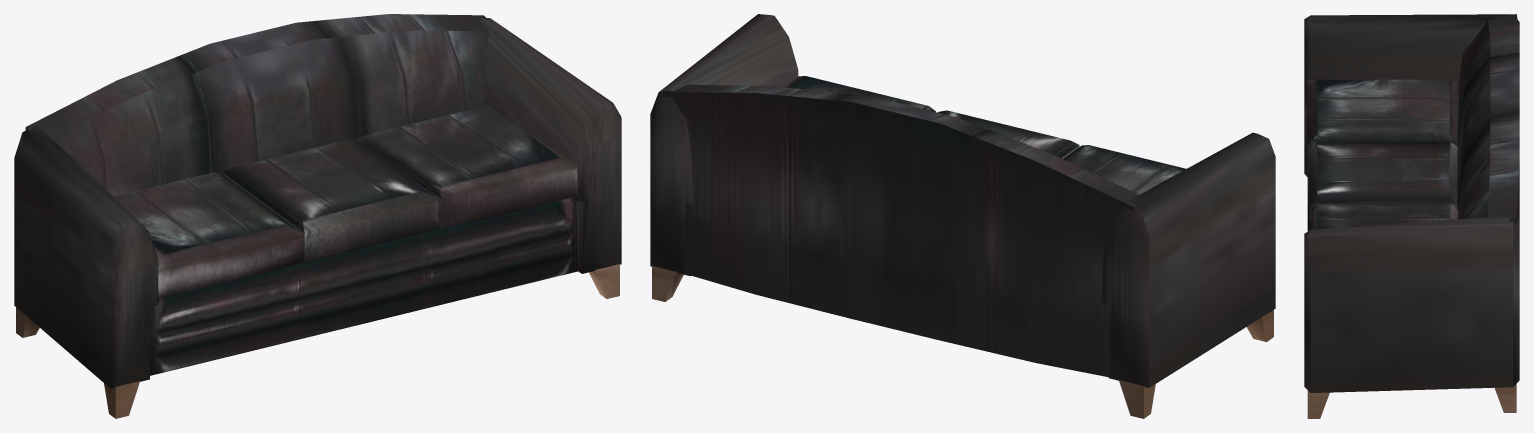
File: couch4.obj
The picture shows the model from 3 angles, left to right: view 1: azimuth 30°, elevation 25°; view 2: azimuth 150°, elevation 25°; view 3: azimuth 270°, elevation 25°; orthographic projection. The views are drawn at different scales.
Visible parts, largest first — view 1: br_couch5; view 2: br_couch5; view 3: br_couch5.
Boxes of the visible parts, box(x1,y1,x2,y2) form: br_couch5: box(14, 14, 621, 418); br_couch5: box(650, 14, 1275, 418); br_couch5: box(1304, 14, 1519, 418).
Size of the model in its own units: 78.84 by 35.45 by 31.17.
Materials: 1 (1 with a texture image).
